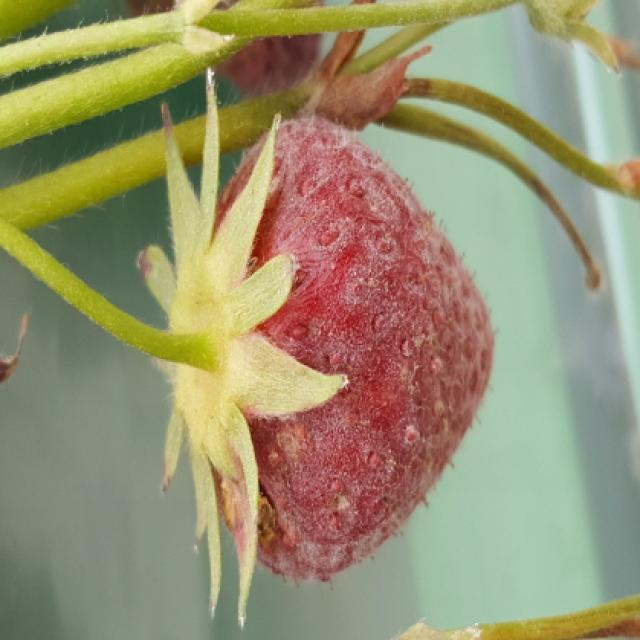Powdery Mildew Fruit: (188, 113, 500, 585)
